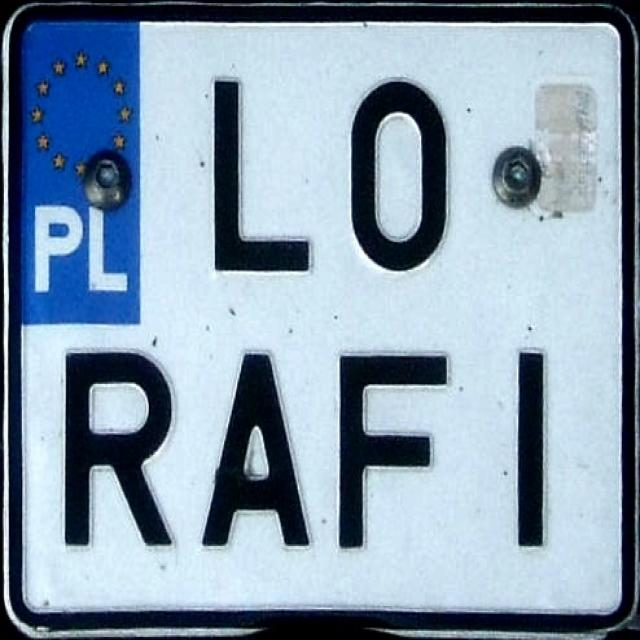pl_license_plate: (22, 19, 621, 609)
